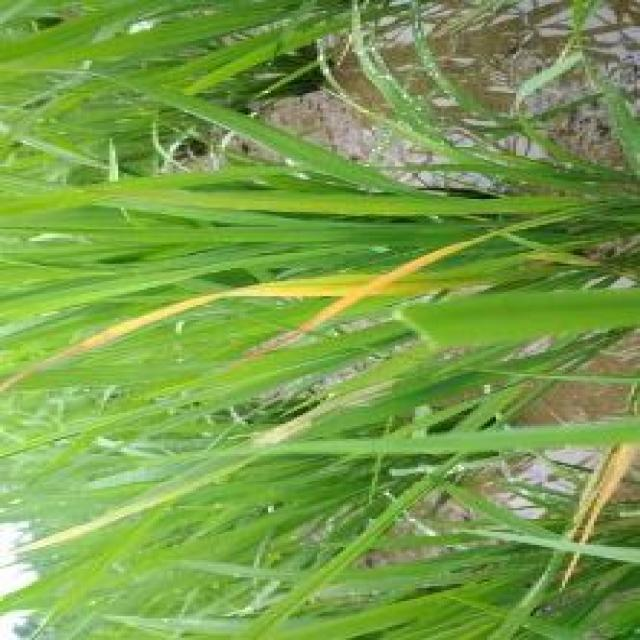Tungro: (54, 261, 514, 364), (561, 425, 640, 586)
